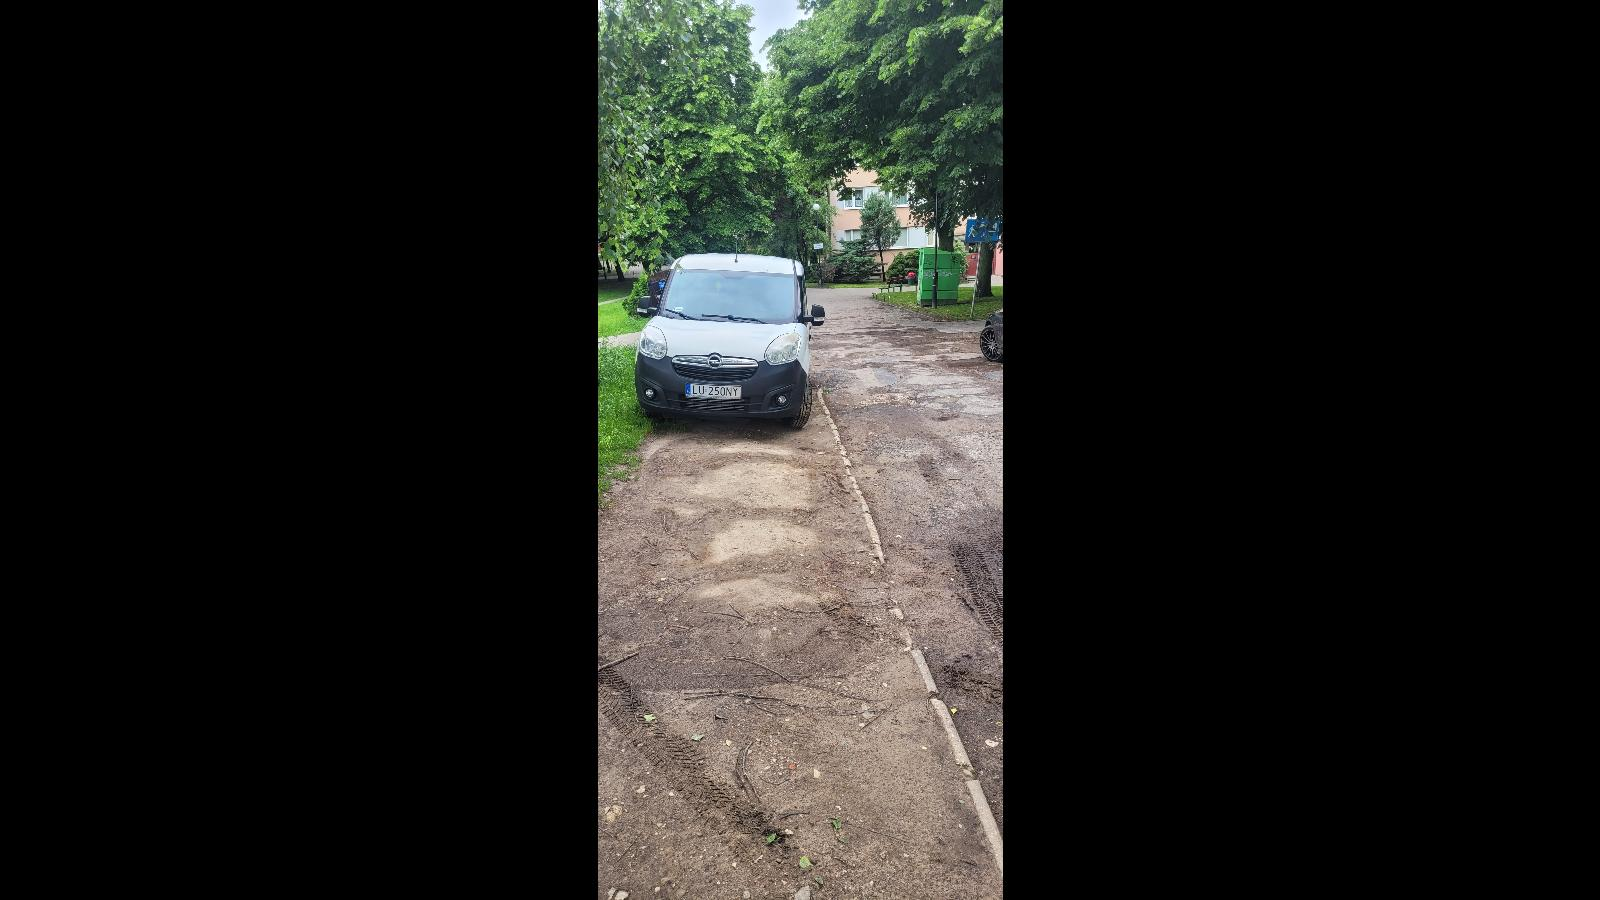plates: (684, 382, 742, 401)
